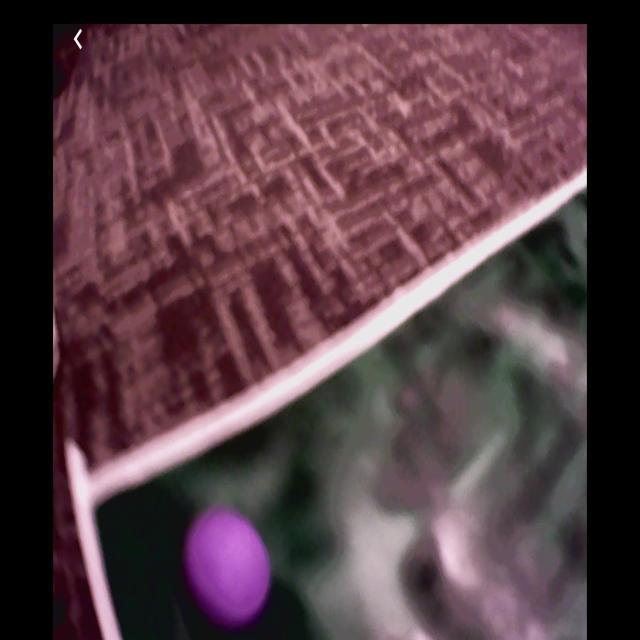ball: (188, 508, 271, 629)
